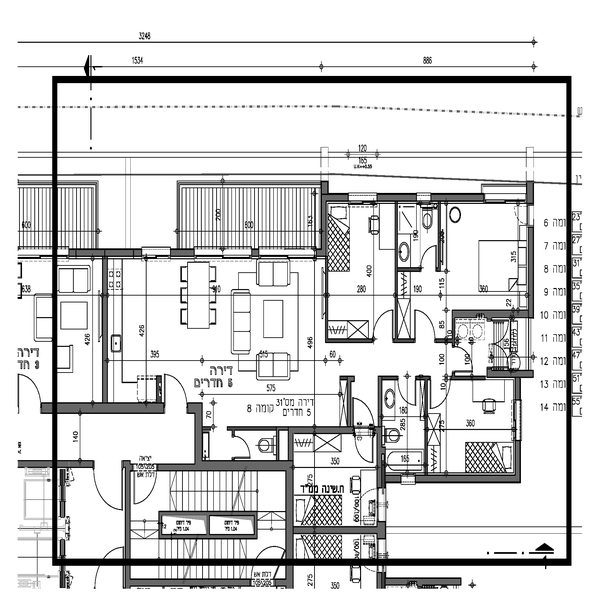door: (89, 462, 130, 511), (96, 542, 133, 591), (8, 368, 47, 410), (488, 318, 515, 371), (134, 455, 163, 504), (157, 365, 188, 405), (346, 393, 377, 432), (356, 429, 381, 473), (430, 368, 457, 408), (447, 342, 479, 372), (409, 301, 433, 340), (394, 371, 417, 410), (372, 310, 398, 340), (415, 244, 440, 273), (228, 434, 257, 457)
room: (99, 244, 332, 417), (325, 182, 537, 323), (118, 451, 297, 594), (377, 367, 528, 492), (284, 413, 387, 536)
wall: (96, 256, 116, 402), (415, 465, 527, 486), (121, 574, 254, 591), (37, 399, 167, 416), (153, 461, 294, 476), (392, 200, 406, 346), (283, 459, 298, 589), (451, 303, 534, 326), (122, 459, 136, 589), (290, 521, 389, 538), (67, 244, 144, 265), (522, 226, 537, 318), (16, 455, 92, 472), (288, 421, 349, 441), (428, 189, 487, 209), (325, 261, 337, 349), (188, 401, 205, 459), (487, 364, 537, 383), (373, 187, 414, 206), (169, 247, 198, 262), (320, 191, 349, 205)
window: (201, 242, 258, 262), (257, 247, 319, 264), (481, 183, 526, 205), (137, 243, 174, 264), (513, 400, 528, 439)
